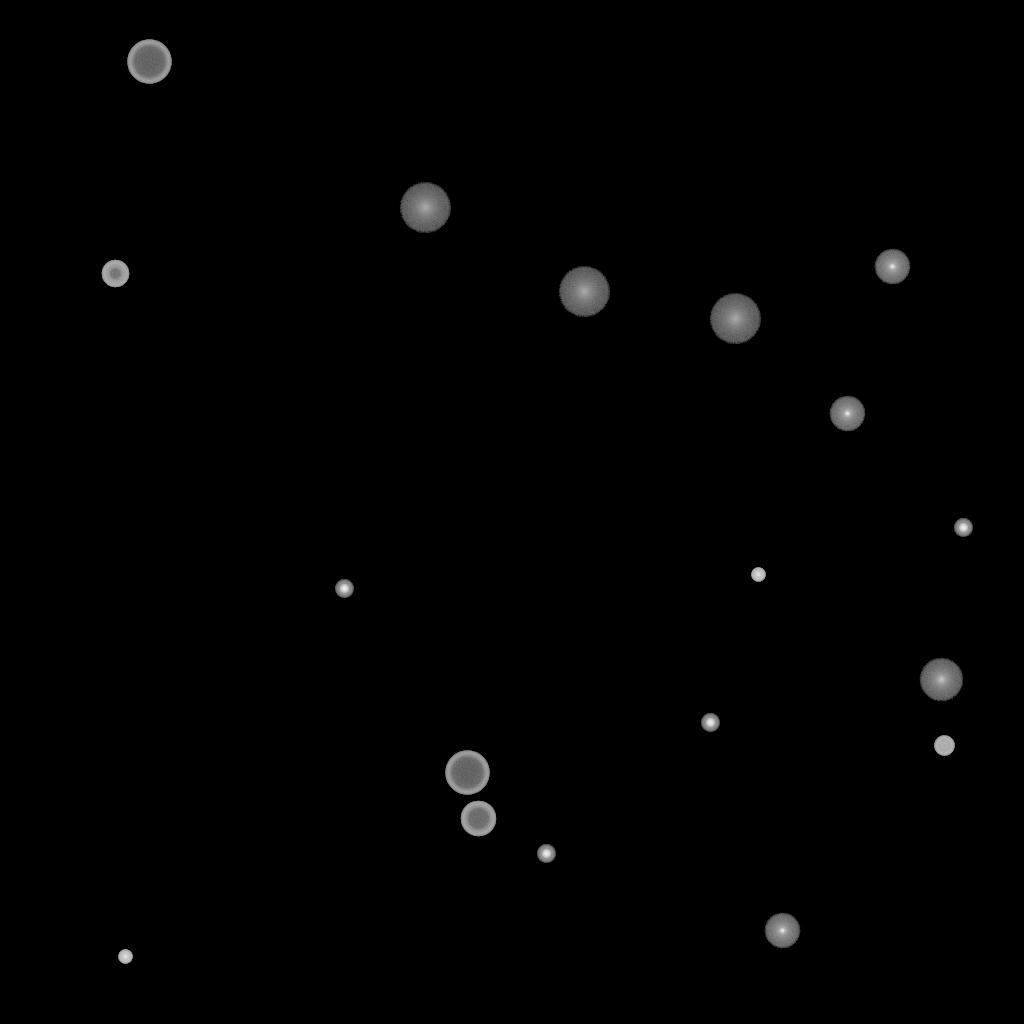depth:-20: (335, 580, 353, 598), (954, 519, 972, 537), (701, 714, 719, 732), (537, 845, 555, 863)
depth:-30: (751, 568, 765, 582), (118, 950, 132, 964)
depth:-40: (934, 736, 954, 756)
depth:-50: (101, 260, 129, 288)
depth:-60: (460, 801, 496, 837)
depth:-70: (127, 40, 171, 84), (445, 751, 489, 795)
depth:0: (764, 913, 800, 949), (829, 396, 865, 432), (874, 249, 910, 285)
depth:10: (919, 658, 963, 702)
depth:20: (709, 294, 761, 344), (399, 183, 451, 233), (558, 267, 610, 317)
